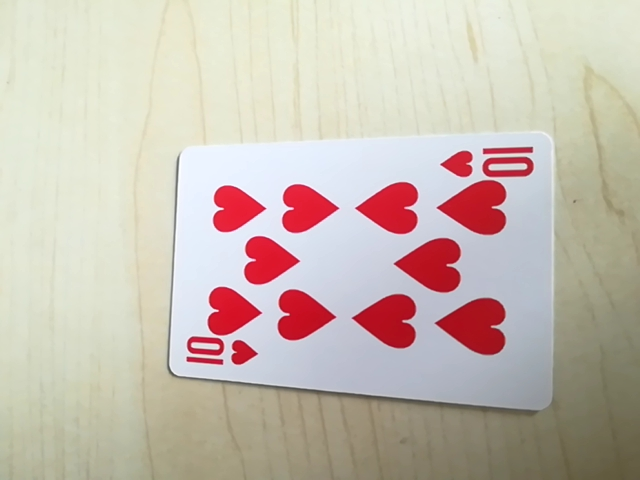hx 10: (440, 140, 542, 181), (179, 335, 262, 376)
